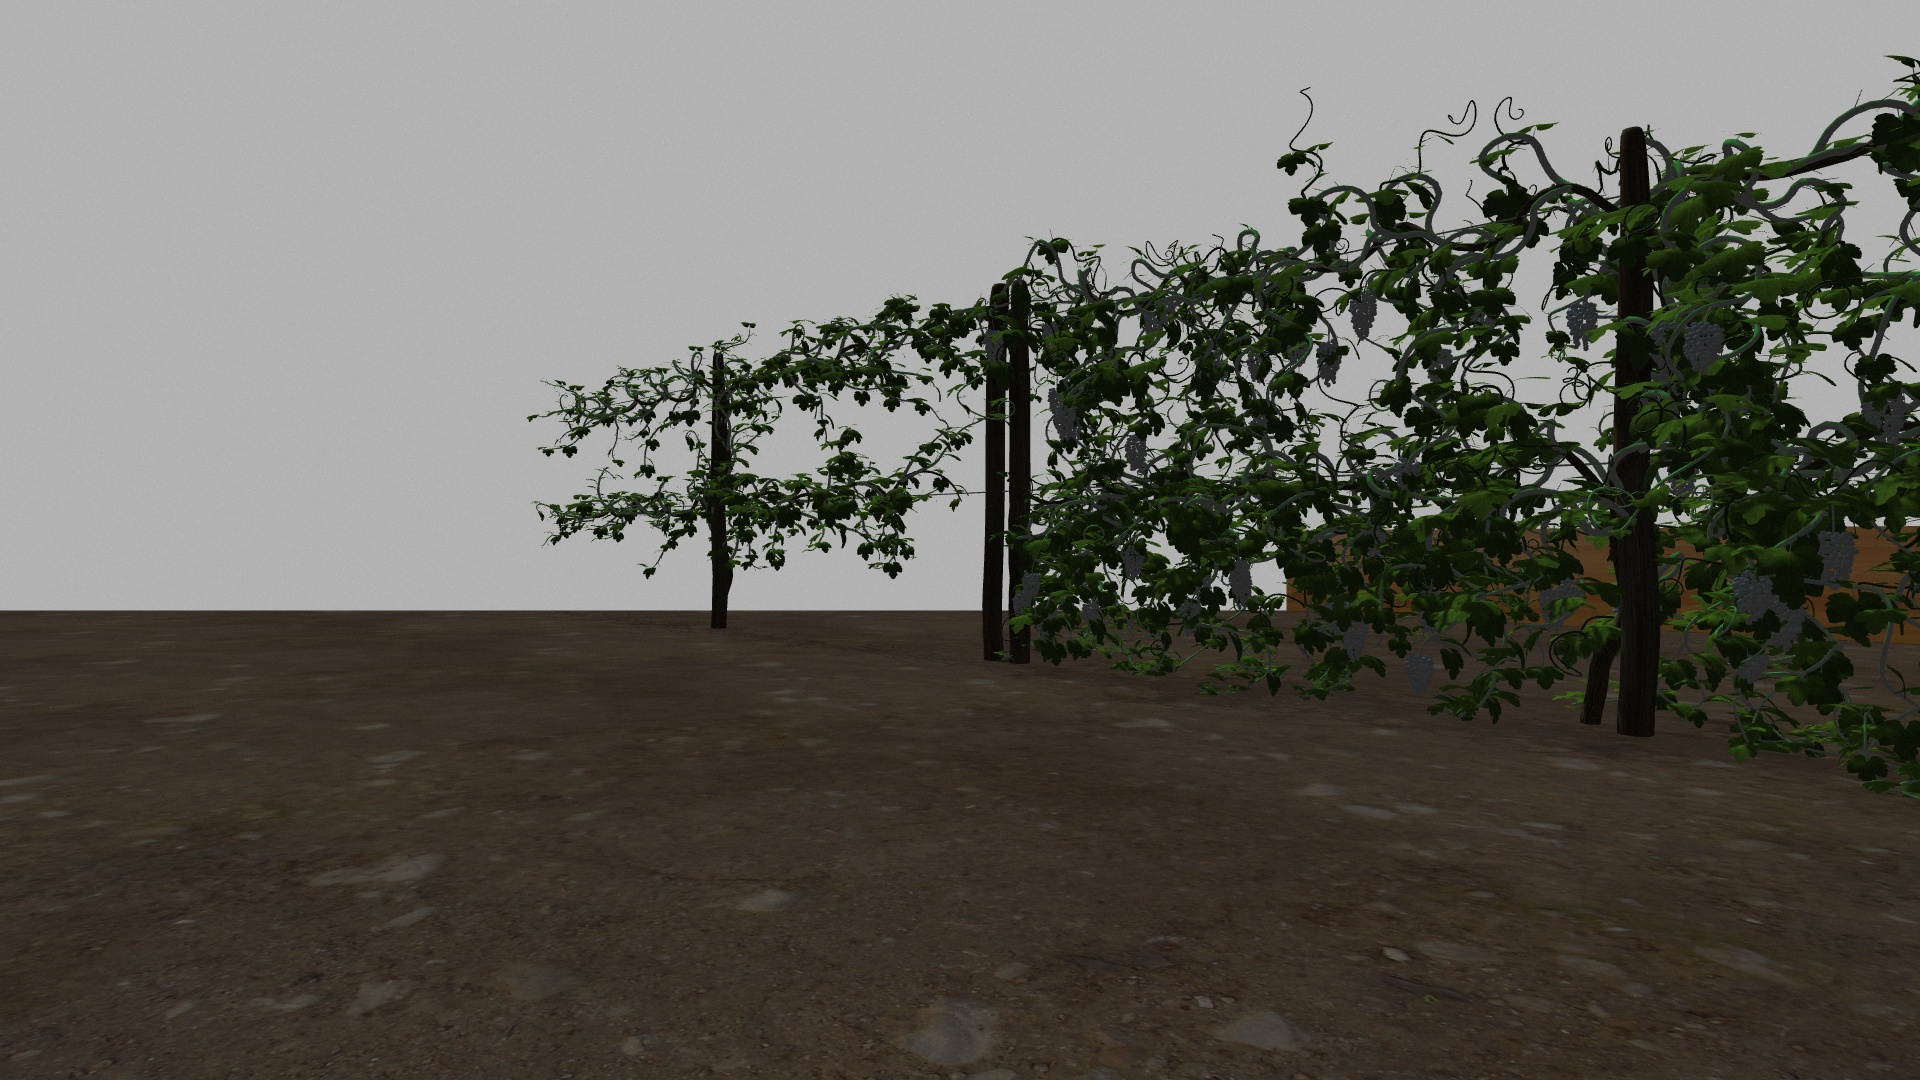grape: (1816, 529, 1857, 591), (1731, 566, 1774, 625), (1863, 389, 1908, 443), (1681, 319, 1727, 371), (1771, 599, 1805, 653), (1338, 611, 1370, 663), (1046, 388, 1077, 439), (1567, 301, 1600, 349), (1346, 291, 1379, 339), (1403, 651, 1435, 694), (1316, 342, 1342, 388), (1556, 580, 1584, 622), (1230, 563, 1253, 607), (1124, 433, 1149, 471), (1178, 599, 1201, 636), (1120, 547, 1146, 580), (984, 328, 1004, 365), (1538, 591, 1557, 621), (1247, 349, 1265, 382), (1011, 591, 1033, 615), (1081, 599, 1101, 624), (1022, 572, 1040, 599)
